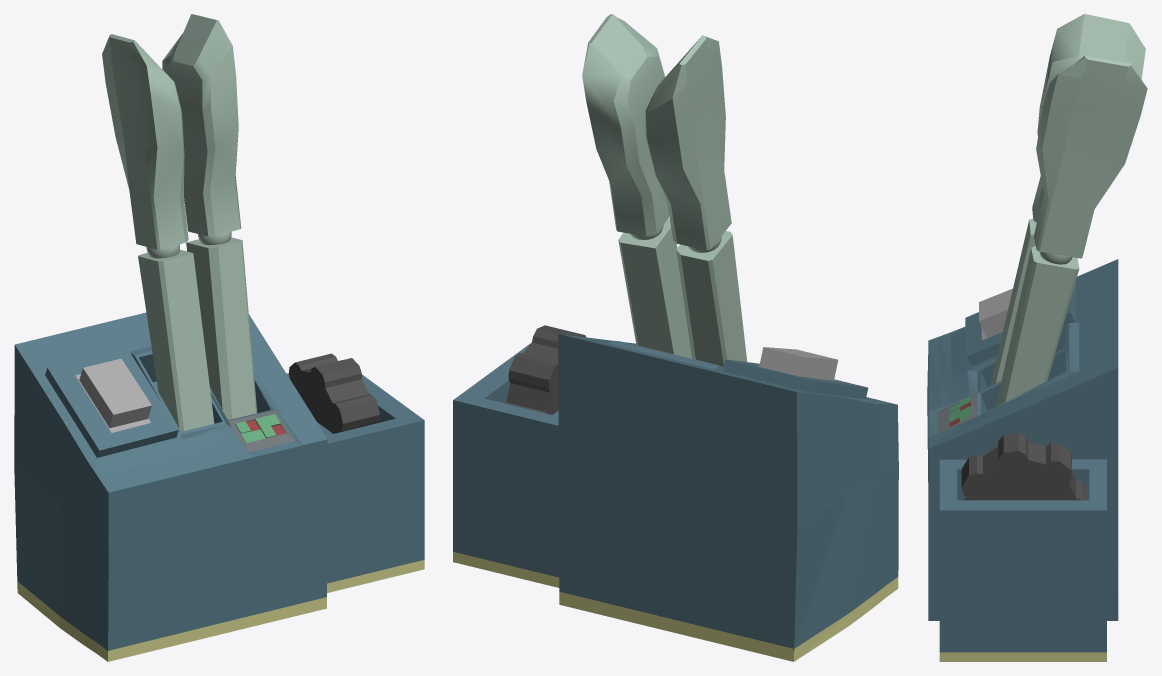
Rendered from NEW_LEVER_SEPARATE.fbx.
3 renders of one model, left to right at view 1: azimuth 30°, elevation 25°; view 2: azimuth 150°, elevation 25°; view 3: azimuth 270°, elevation 25°, orthographic. The views are drawn at different scales.
Visible parts, largest first — view 1: NEW_LEVER, ARMS_TOGETHER1, polySurface61, NEW_BUTTON; view 2: NEW_LEVER, ARMS_TOGETHER1, polySurface61, NEW_BUTTON; view 3: NEW_LEVER, ARMS_TOGETHER1, polySurface61, NEW_BUTTON.
Part boxes in pixels (x1=…): NEW_LEVER: x1=14, y1=312, x2=424, y2=661; ARMS_TOGETHER1: x1=102, y1=14, x2=257, y2=431; polySurface61: x1=289, y1=353, x2=379, y2=433; NEW_BUTTON: x1=79, y1=358, x2=151, y2=428; NEW_LEVER: x1=453, y1=334, x2=898, y2=661; ARMS_TOGETHER1: x1=582, y1=14, x2=747, y2=366; polySurface61: x1=505, y1=325, x2=585, y2=414; NEW_BUTTON: x1=759, y1=347, x2=838, y2=380; NEW_LEVER: x1=927, y1=259, x2=1118, y2=661; ARMS_TOGETHER1: x1=990, y1=14, x2=1147, y2=406; polySurface61: x1=961, y1=432, x2=1087, y2=500; NEW_BUTTON: x1=979, y1=288, x2=1012, y2=337.
Bounding box in the file's own units: 2 × 3.19 × 1.16.
